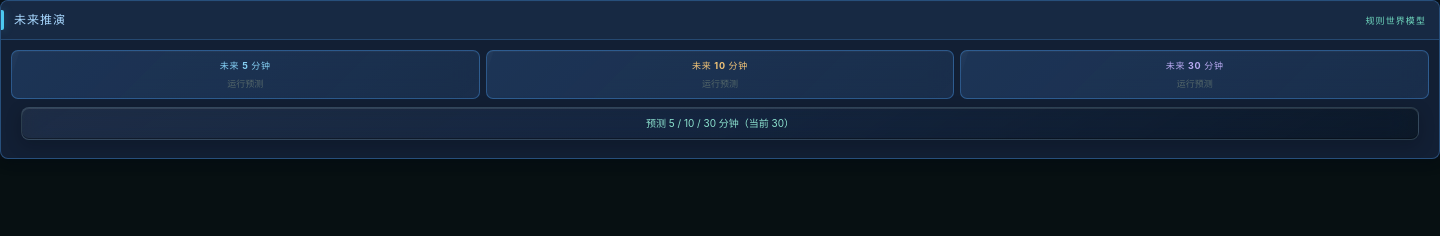
Test case: PredictionPanel reset › clears stale rule predictions when the demo is reset
Click the button with aria-label "+10 min". click: (720, 74)
box: [486,50,954,99]
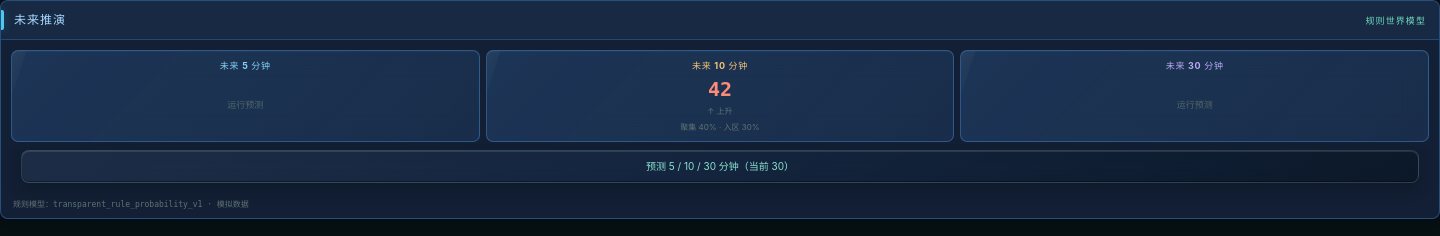
Result: the text "42" is shown at [708,76,732,100]
